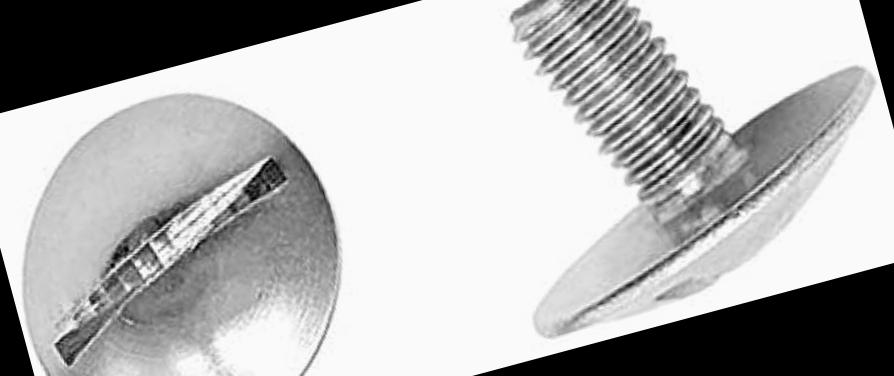slotted: (0, 59, 387, 376)
